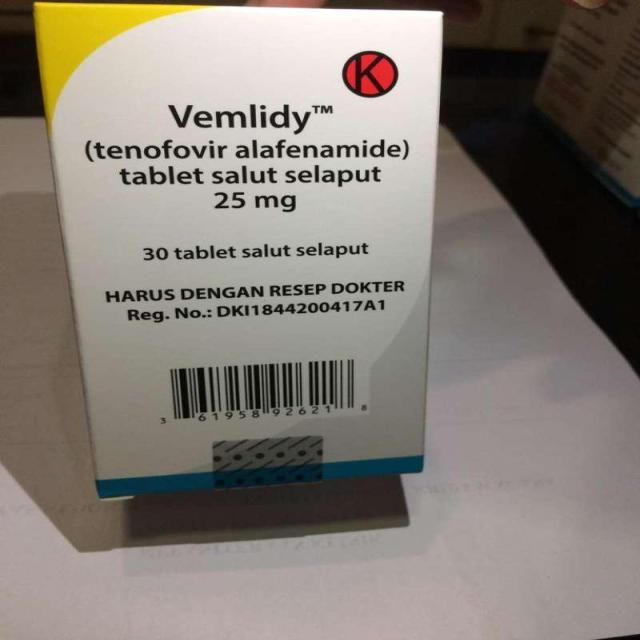drug-name: (165, 105, 311, 136)
